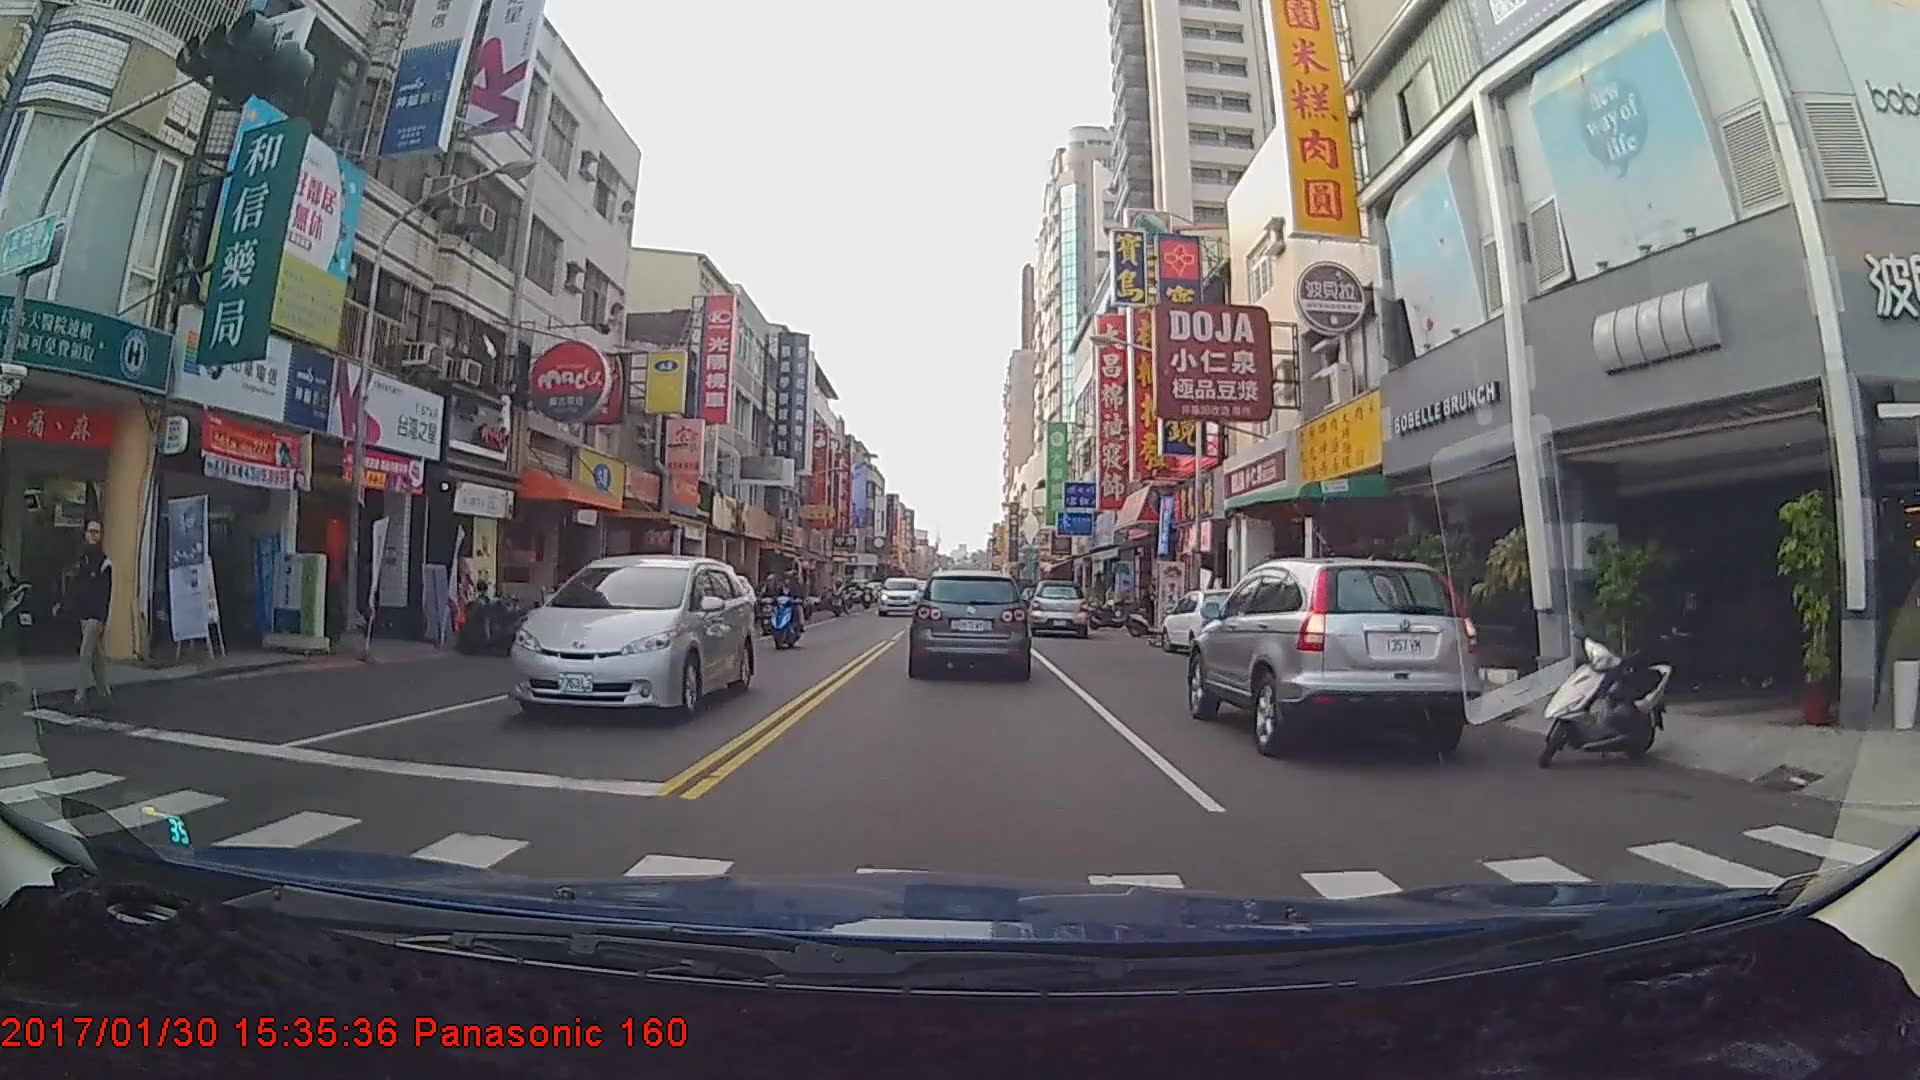pedestrian: (58, 519, 120, 720)
rider: (766, 570, 807, 650)
vehicle: (1186, 554, 1484, 760), (509, 551, 751, 722), (910, 568, 1029, 677), (1158, 586, 1265, 656), (1027, 578, 1088, 636), (875, 573, 923, 616)
